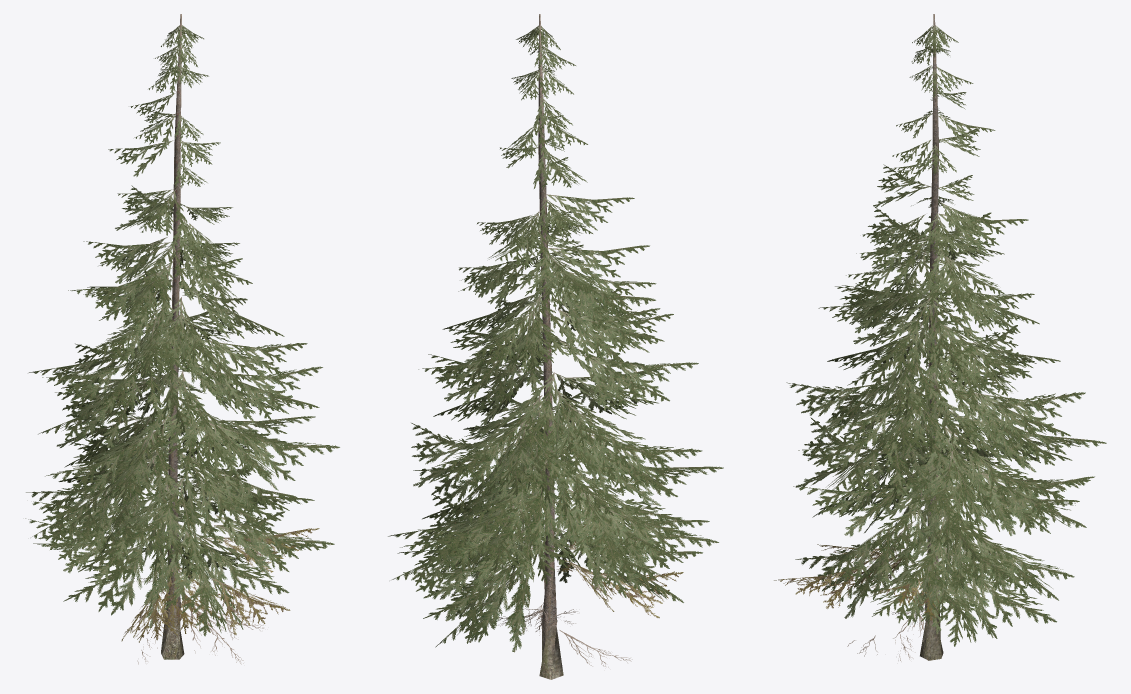
Rendered from Spruce5_LOD2.fbx.
3 renders of one model, left to right at view 1: azimuth 30°, elevation 25°; view 2: azimuth 150°, elevation 25°; view 3: azimuth 270°, elevation 25°, orthographic. The views are drawn at different scales.
Visible parts, largest first — view 1: spruce 2_1, spruce 1_0; view 2: spruce 2_1, spruce 1_0; view 3: spruce 2_1, spruce 1_0.
Boxes of the visible parts, x1,y1,x2,y2 form: spruce 2_1: (25, 25, 339, 664); spruce 1_0: (161, 14, 184, 659); spruce 2_1: (388, 25, 723, 667); spruce 1_0: (538, 14, 563, 679); spruce 2_1: (774, 25, 1106, 661); spruce 1_0: (920, 14, 943, 660).
Bounding box in the file's own units: 532 × 1049 × 520.
Materials: 2 (2 with a texture image).
